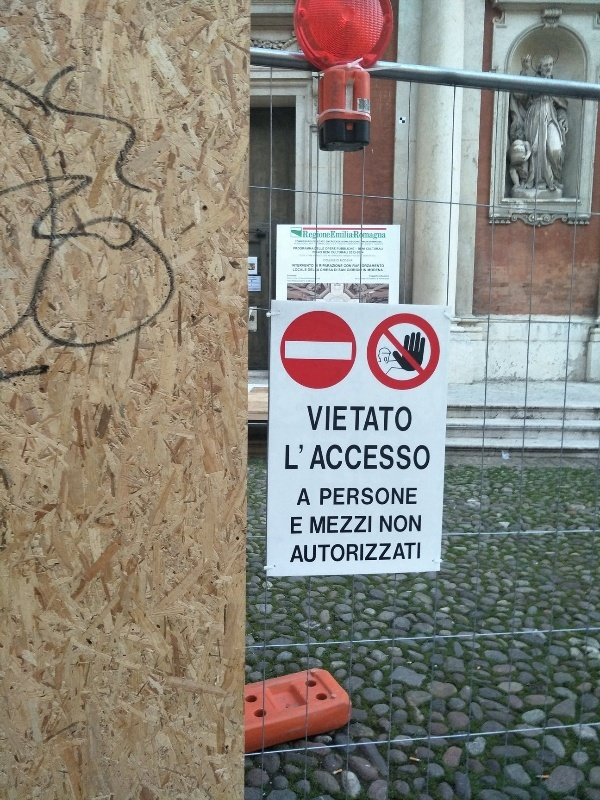text: (417, 441, 433, 476), (289, 441, 304, 476), (305, 441, 320, 476), (321, 441, 336, 476), (337, 441, 352, 476), (353, 441, 368, 476), (369, 441, 384, 476), (385, 441, 400, 476), (401, 441, 416, 476), (321, 405, 336, 432), (337, 405, 352, 432), (353, 405, 368, 432), (369, 405, 384, 432), (385, 405, 400, 432), (321, 513, 336, 537), (337, 513, 352, 537), (353, 513, 368, 537), (305, 541, 320, 565), (321, 541, 336, 565), (337, 541, 352, 565), (353, 541, 368, 565), (369, 541, 384, 565), (385, 541, 400, 565), (401, 541, 416, 565), (307, 405, 320, 432), (385, 514, 400, 536), (401, 514, 416, 536), (401, 405, 413, 432), (321, 487, 336, 505), (337, 487, 352, 505), (353, 487, 368, 505), (369, 487, 384, 505), (385, 487, 400, 505), (401, 487, 416, 505), (291, 516, 304, 536), (294, 541, 304, 565), (311, 513, 320, 537), (305, 274, 321, 285), (417, 541, 424, 565), (289, 274, 304, 285), (417, 514, 424, 536), (305, 230, 320, 240), (321, 230, 336, 240), (337, 230, 352, 240), (353, 230, 368, 240), (369, 230, 384, 240), (284, 441, 288, 476), (305, 488, 312, 506), (369, 513, 374, 537), (369, 275, 384, 282), (355, 275, 368, 282), (305, 240, 320, 246), (321, 240, 336, 246), (337, 240, 352, 246), (353, 240, 368, 246), (369, 240, 384, 246), (380, 514, 384, 536), (369, 263, 385, 268), (353, 263, 368, 268), (321, 268, 334, 273), (339, 268, 352, 273), (337, 259, 353, 263), (294, 240, 304, 246), (337, 247, 352, 251), (369, 248, 384, 252), (305, 254, 320, 258), (321, 254, 336, 258), (337, 254, 352, 258), (353, 254, 368, 258), (324, 250, 336, 255), (321, 264, 336, 268), (369, 268, 384, 272), (358, 251, 368, 256), (292, 264, 304, 268), (337, 251, 349, 255), (324, 259, 336, 263), (292, 269, 304, 273), (308, 268, 320, 272), (326, 247, 336, 251), (358, 247, 368, 251), (302, 488, 304, 506), (356, 248, 368, 251), (305, 264, 314, 268), (385, 275, 390, 282), (293, 248, 304, 251), (344, 264, 352, 268), (353, 268, 359, 273), (369, 254, 376, 258), (313, 251, 320, 255), (305, 248, 314, 251), (347, 268, 352, 273), (314, 247, 320, 251), (337, 264, 343, 268), (385, 230, 387, 240), (331, 251, 336, 255), (417, 487, 418, 505), (321, 247, 325, 251), (300, 254, 304, 258), (363, 248, 368, 251), (363, 269, 368, 272), (353, 251, 356, 255), (287, 274, 288, 285), (303, 230, 304, 240), (334, 268, 336, 273), (353, 247, 355, 251), (366, 248, 368, 252), (321, 251, 323, 255), (350, 251, 352, 255), (305, 269, 307, 273), (337, 268, 338, 273), (319, 264, 320, 268)
